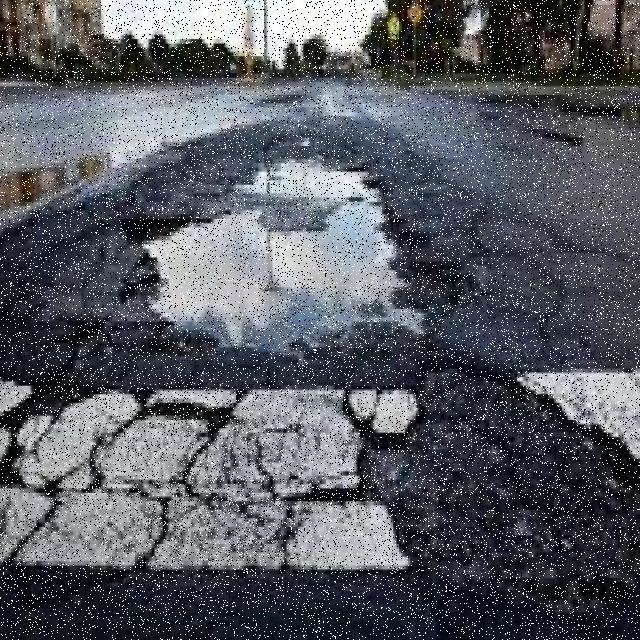pothole: (76, 163, 481, 394)
